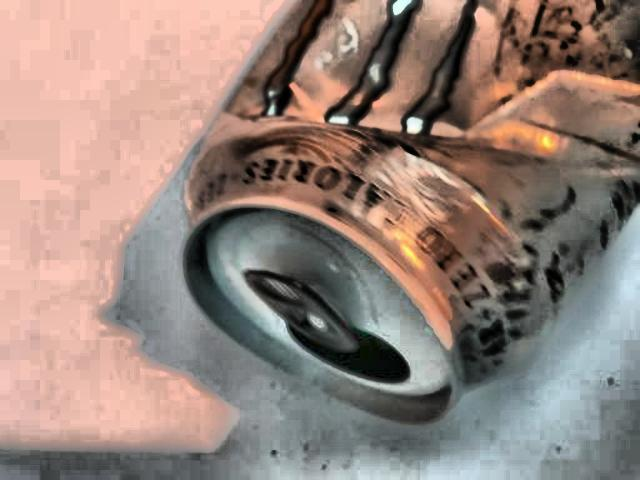Bottles: (165, 0, 640, 445)
